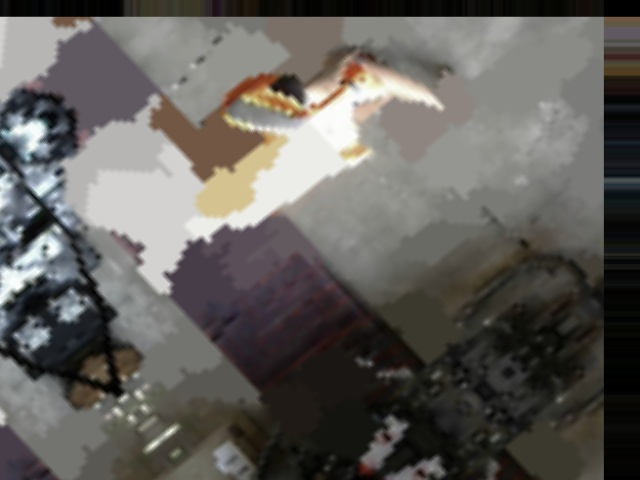three: (102, 188, 165, 244)
